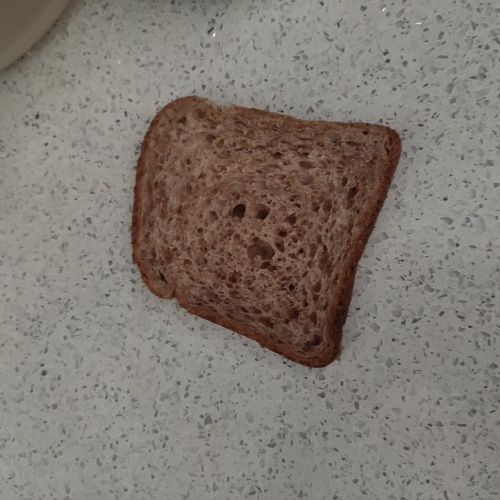pane: (121, 87, 416, 378)
